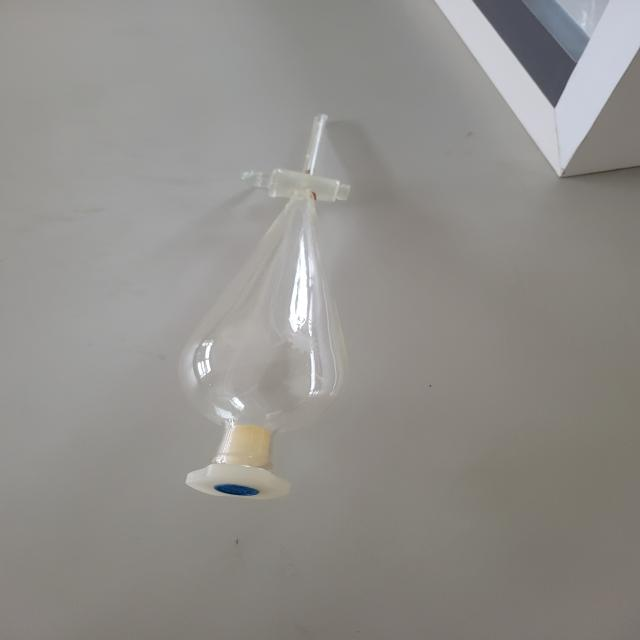Separating_Funnel: (155, 83, 390, 542)
